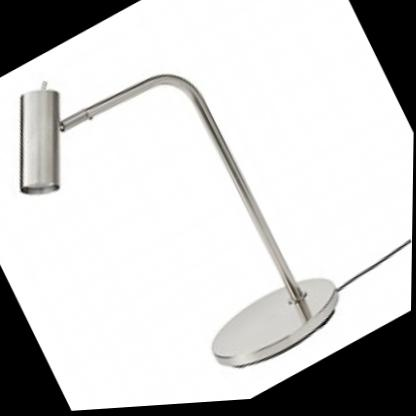Lamp: (0, 0, 365, 416)
